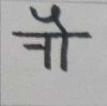au_matra: (38, 6, 75, 69)
